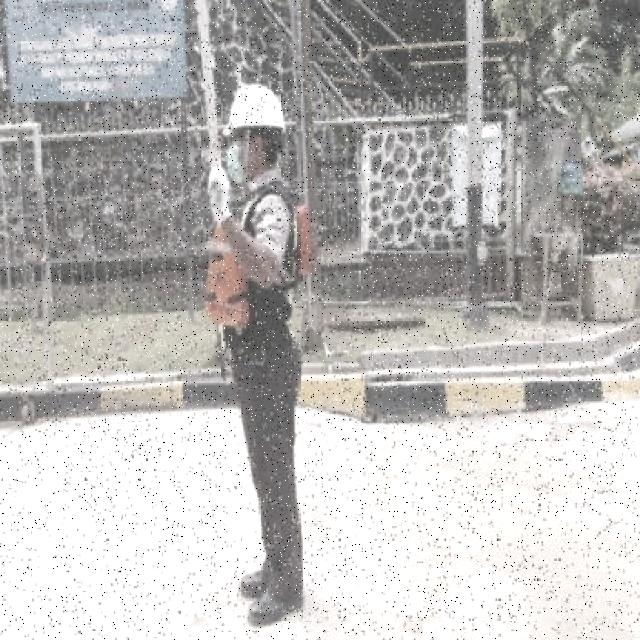Boots: (244, 584, 304, 627), (238, 567, 272, 598)
Gloves: (205, 163, 232, 226)
Helmet: (222, 82, 288, 136)
Mask: (206, 202, 317, 333), (224, 132, 264, 146)
